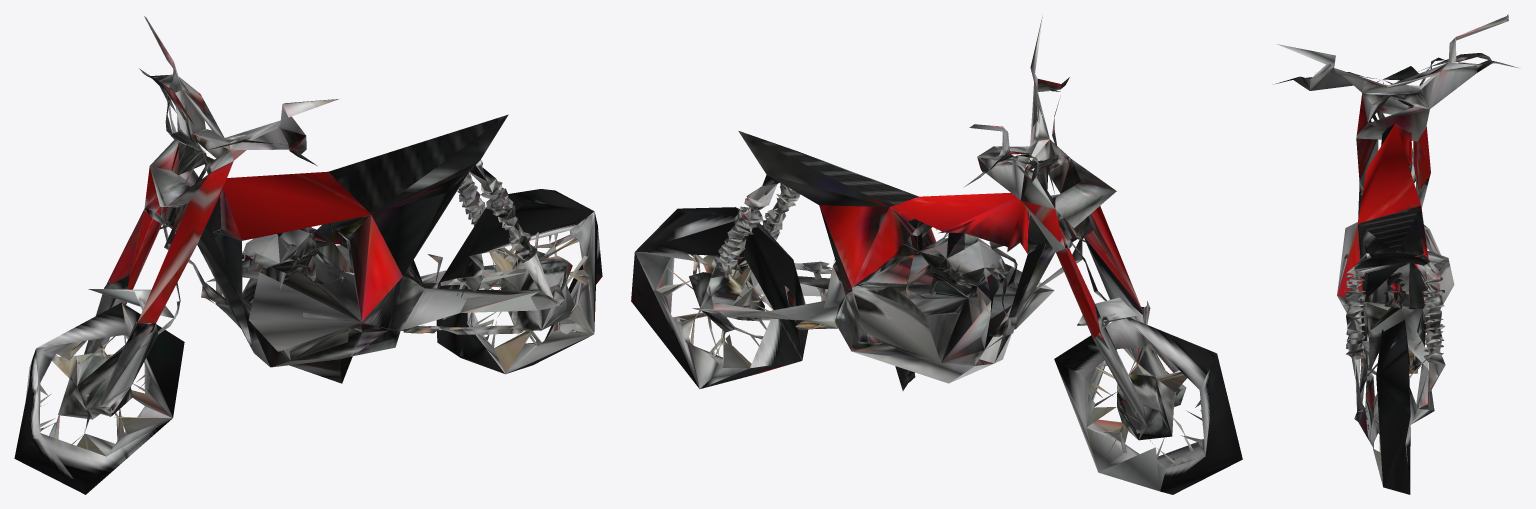
The model's file is fv_motorbike.lod1.glb.
3 views of the same model, side by side, from view 1: azimuth 30°, elevation 25°; view 2: azimuth 150°, elevation 25°; view 3: azimuth 270°, elevation 25° (orthographic). The views are drawn at different scales.
Visible parts, largest first — view 1: fv_motorbike; view 2: fv_motorbike; view 3: fv_motorbike.
Boxes of the visible parts, x1=… form: fv_motorbike: x1=14, y1=16, x2=602, y2=494; fv_motorbike: x1=631, y1=16, x2=1242, y2=494; fv_motorbike: x1=1276, y1=14, x2=1519, y2=494.
Size of the model in its own units: 1.95 by 1.23 by 0.8083.
Materials: 1 (1 with a texture image).
